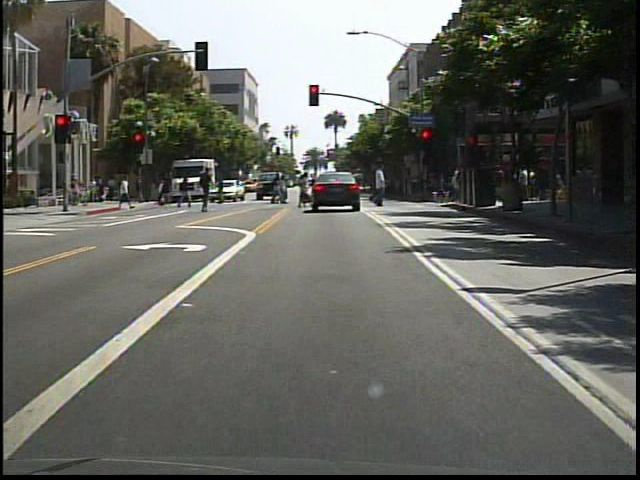person: (367, 162, 395, 214), (198, 168, 219, 217), (298, 171, 317, 210), (119, 174, 136, 214), (181, 173, 197, 212)
